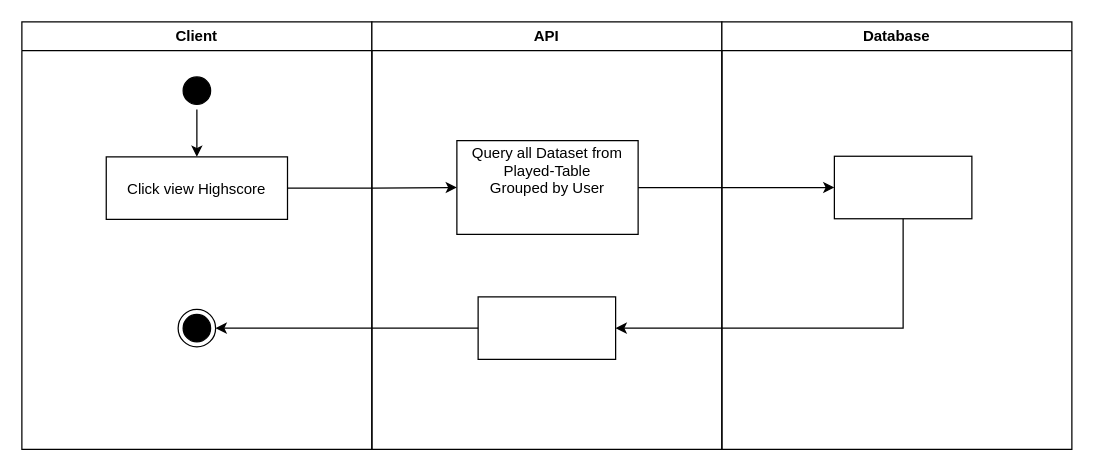
Image size: 1094x471. Some labels were removed from this diagram. The shapes that lost their labels are listed below. From the top down, each one's box as (x1, y1, x2, y2) in pixels, then its label:
(833, 155, 972, 219): Return datasets
(477, 296, 616, 359): Return JSON
